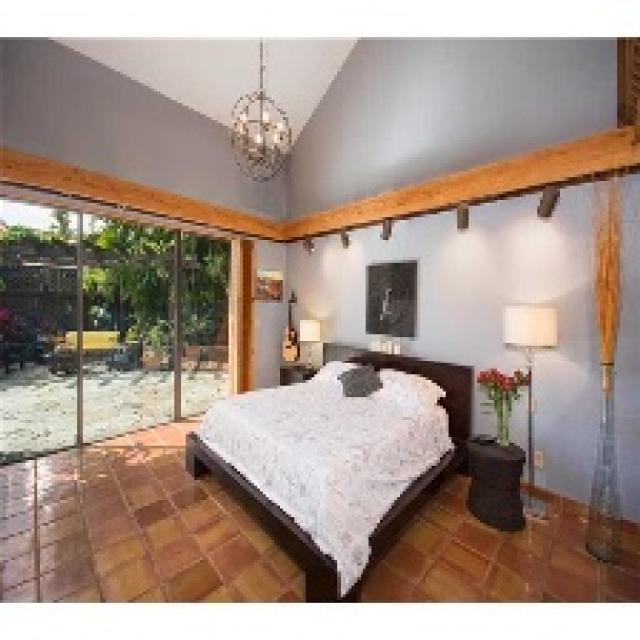Bed: (183, 346, 474, 600)
